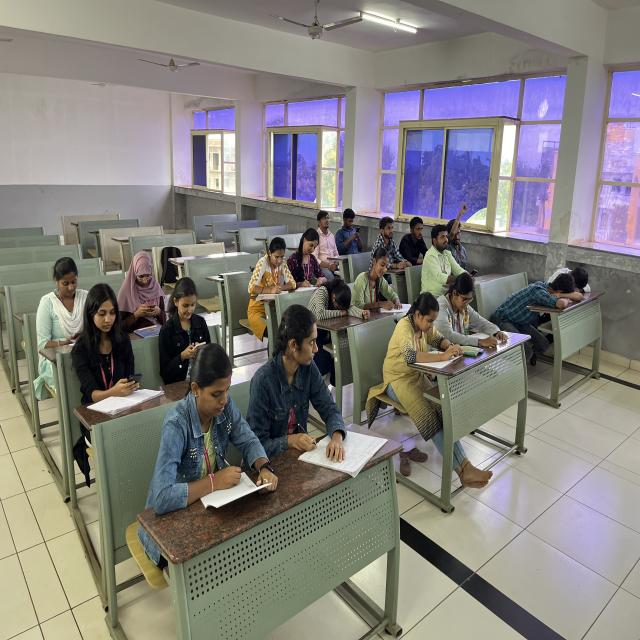Reading: (382, 280, 469, 396)
Sleeping: (310, 276, 376, 332), (530, 268, 587, 314)
Using Phone: (65, 282, 159, 428), (160, 261, 240, 378)
Writing: (140, 342, 284, 526), (259, 298, 378, 491), (247, 229, 304, 313)
